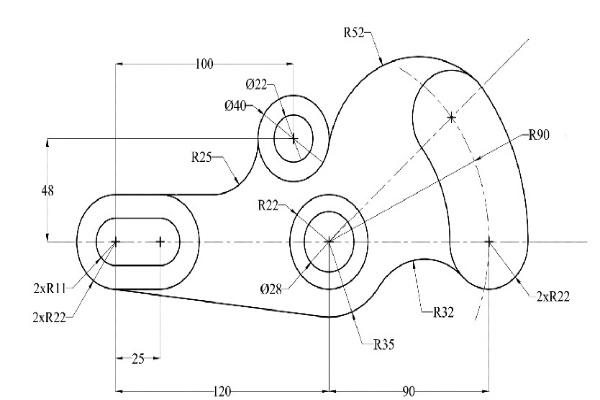dimensions: (28, 305, 69, 327), (535, 286, 576, 307), (29, 279, 67, 299), (370, 335, 402, 354), (253, 278, 284, 297), (338, 21, 367, 41), (220, 95, 247, 115), (253, 195, 281, 214), (395, 379, 420, 400), (241, 75, 270, 93), (187, 148, 214, 167), (430, 304, 457, 323), (124, 349, 152, 367), (526, 125, 553, 143), (212, 381, 237, 400), (192, 53, 215, 72), (35, 183, 58, 201)
